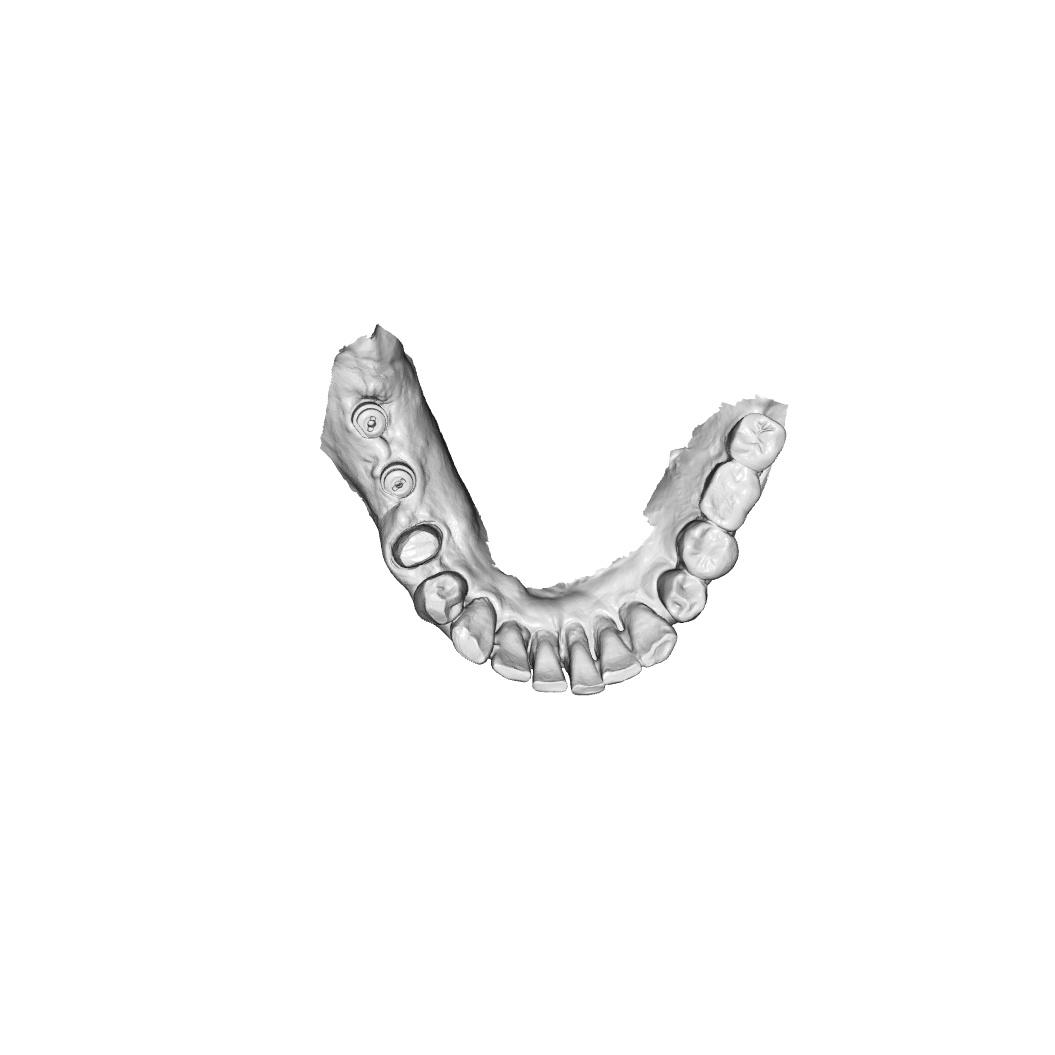canine: (622, 602, 678, 669), (449, 596, 498, 665)
crown: (389, 521, 444, 571)
implant_minus: (349, 397, 391, 441), (378, 461, 418, 500)
incisor: (490, 619, 532, 684), (598, 626, 643, 686), (530, 637, 569, 695), (567, 640, 606, 697)
molar: (698, 458, 764, 533), (723, 410, 787, 473)
premolar: (676, 519, 741, 581), (411, 570, 469, 627), (656, 567, 709, 624)
